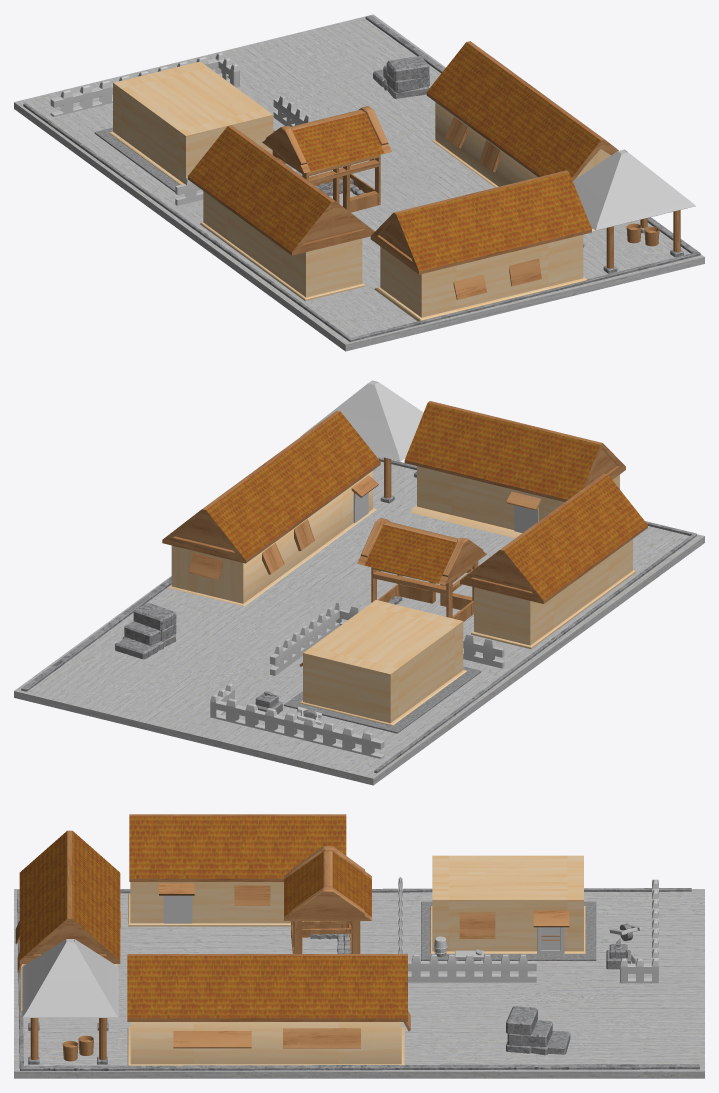
The model's file is cangku.fbx.
3 views of the same model, one above another, from view 1: azimuth 30°, elevation 25°; view 2: azimuth 150°, elevation 25°; view 3: azimuth 270°, elevation 25° (orthographic). The views are drawn at different scales.
Parts seen in each view (by area): view 1: cangku; view 2: cangku; view 3: cangku.
Boxes of the visible parts, <box> form: cangku: <box>14,14,704,351</box>; cangku: <box>14,380,704,785</box>; cangku: <box>14,814,704,1078</box>.
Bounding box in the file's own units: 12.04 × 3.38 × 19.23.
